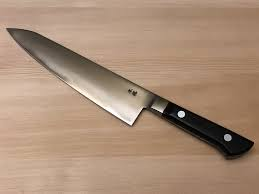knife: (4, 20, 259, 174)
